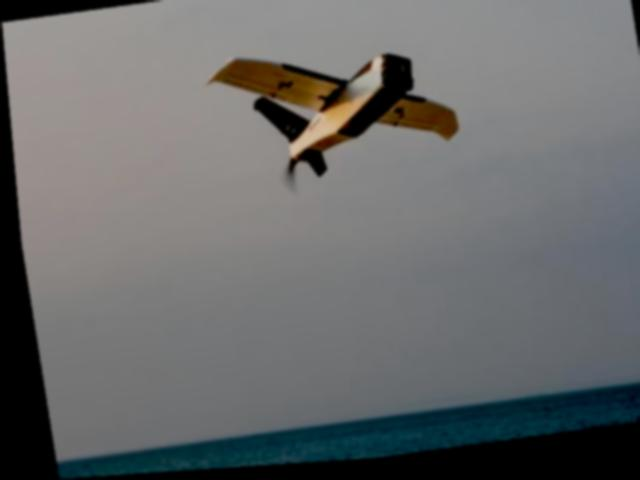uav: (202, 30, 463, 195)
